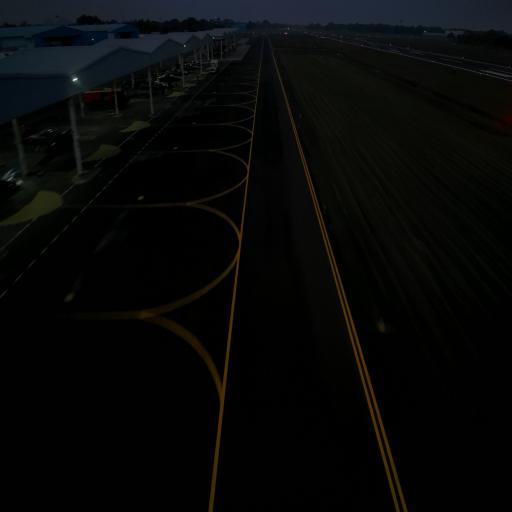on: (380, 316, 385, 330), (324, 205, 326, 212), (300, 112, 301, 117)
